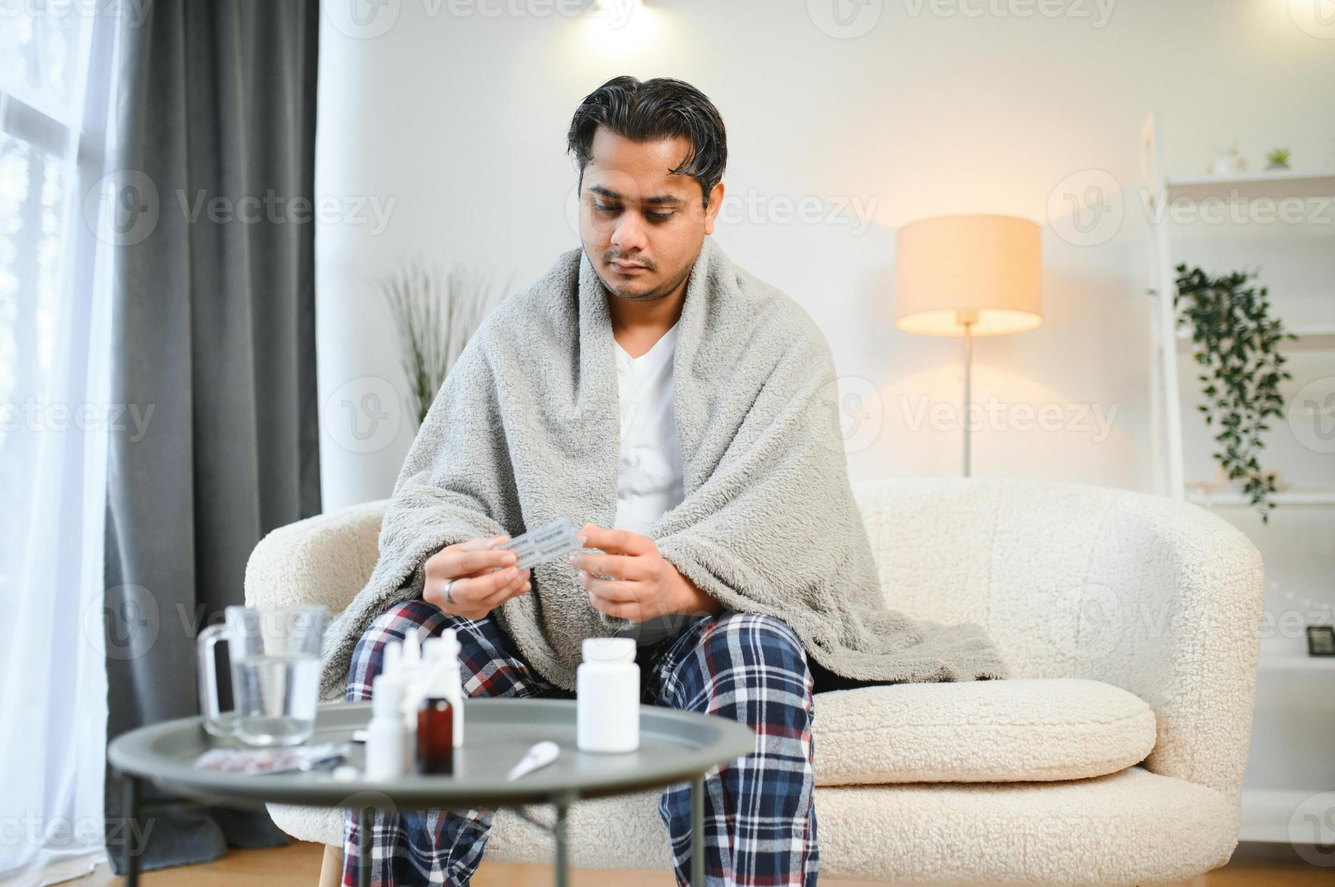blanket: (293, 231, 1018, 703)
trousers: (341, 598, 819, 887)
